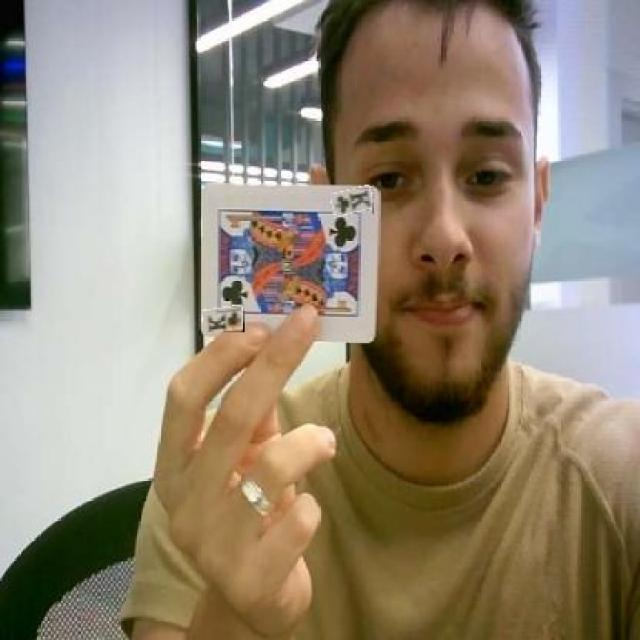KC: (332, 188, 374, 214), (203, 306, 245, 332)
